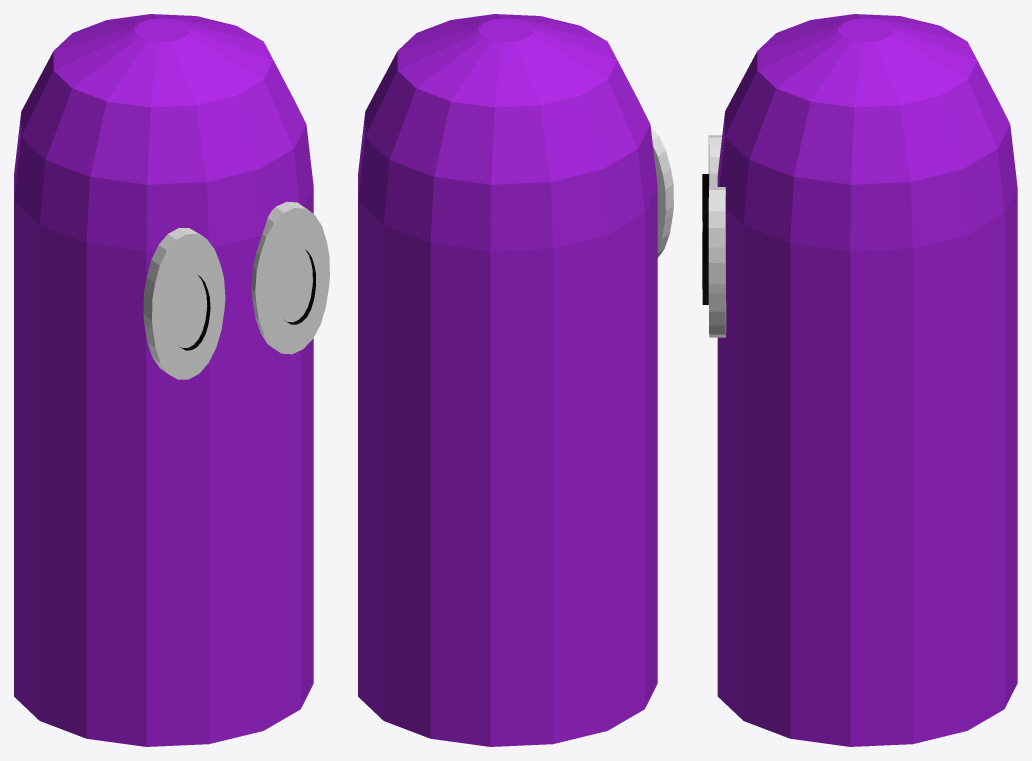
File: Shadow.fbx
3 renders of one model, left to right at view 1: azimuth 30°, elevation 25°; view 2: azimuth 150°, elevation 25°; view 3: azimuth 270°, elevation 25°, orthographic.
Visible parts, largest first — view 1: Cylinder, Circle.001, Circle.002; view 2: Cylinder, Circle.001; view 3: Cylinder, Circle.001, Circle.002.
Boxes of the visible parts, <box> form: Cylinder: <box>14,14,313,746</box>; Circle.001: <box>143,201,329,379</box>; Circle.002: <box>179,249,315,350</box>; Cylinder: <box>358,14,657,746</box>; Circle.001: <box>651,127,673,257</box>; Cylinder: <box>717,14,1017,746</box>; Circle.001: <box>708,135,726,337</box>; Circle.002: <box>702,174,708,304</box>.
Size of the model in its own units: 199 by 476 by 208.
